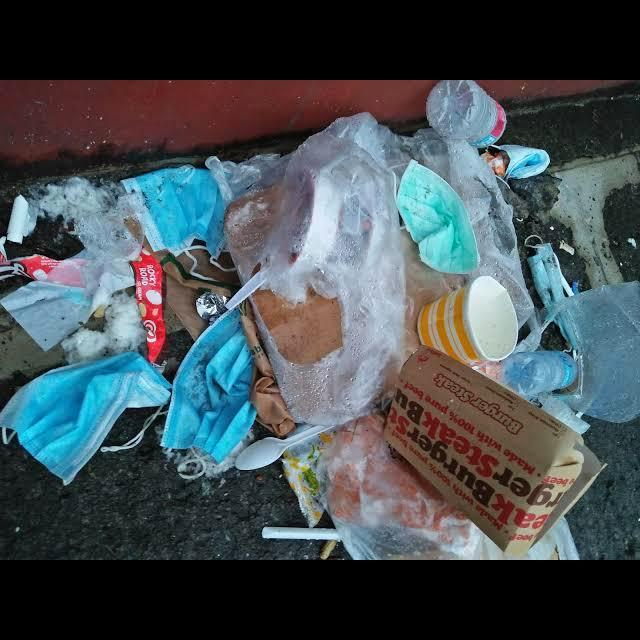cardboard: (383, 347, 603, 558), (417, 276, 520, 368)
food_wrapper: (129, 245, 165, 364)
plastic_bottle: (427, 80, 506, 149), (501, 351, 579, 396)
